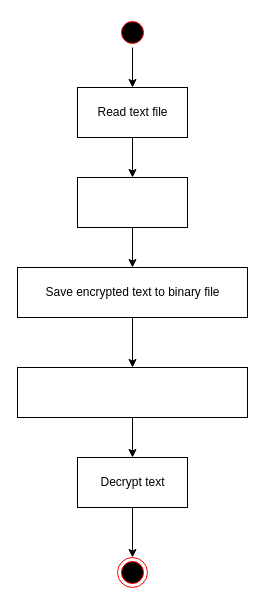
The diagram is 265 pixels wide and 605 high, and some of its shapes have lost their labels. Each missing label, with the box of its shape:
Encrypt text: (76, 176, 188, 228)
Read encrypted text from binary file: (16, 366, 248, 418)
